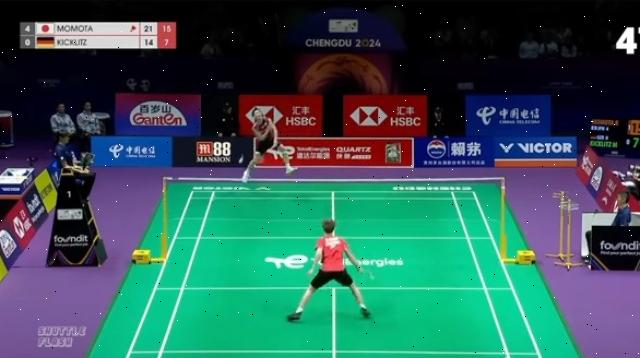Shuttlecock: (237, 156, 247, 164)
